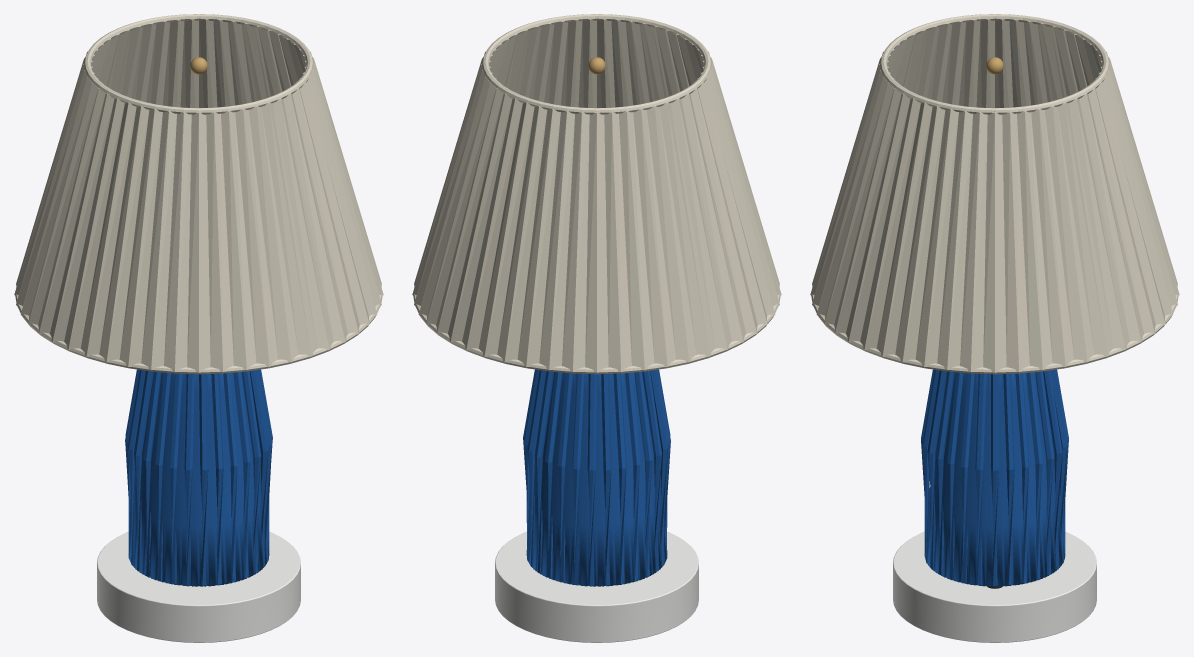
Rendered from apartment-lamp-ceramic.glb.
3 renders of one model, left to right at view 1: azimuth 30°, elevation 25°; view 2: azimuth 150°, elevation 25°; view 3: azimuth 270°, elevation 25°, orthographic.
Parts seen in each view (by area): view 1: catalog_surface_RealismUV; view 2: catalog_surface_RealismUV; view 3: catalog_surface_RealismUV.
Boxes of the visible parts, x1,y1,x2,y2 form: catalog_surface_RealismUV: [14, 14, 383, 642]; catalog_surface_RealismUV: [412, 14, 781, 642]; catalog_surface_RealismUV: [810, 14, 1179, 642].
Size of the model in its own units: 0.21 by 0.34 by 0.21.
